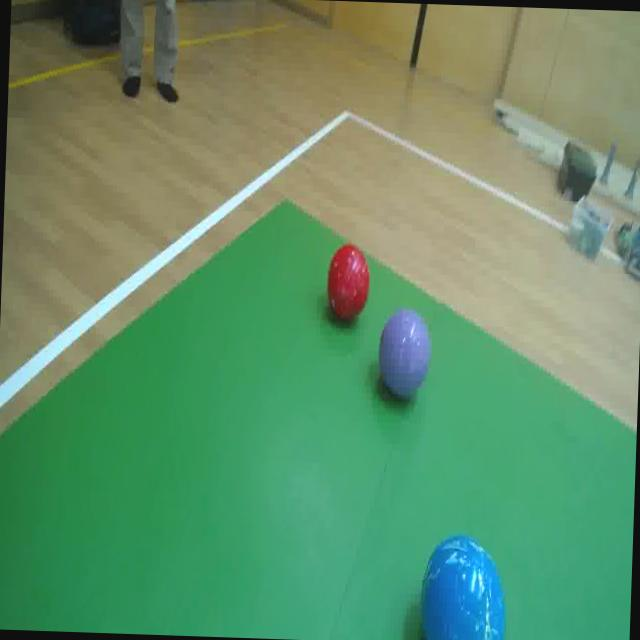blue_ball: (420, 539, 503, 640)
purple_ball: (378, 309, 427, 398)
red_ball: (324, 244, 374, 324)
